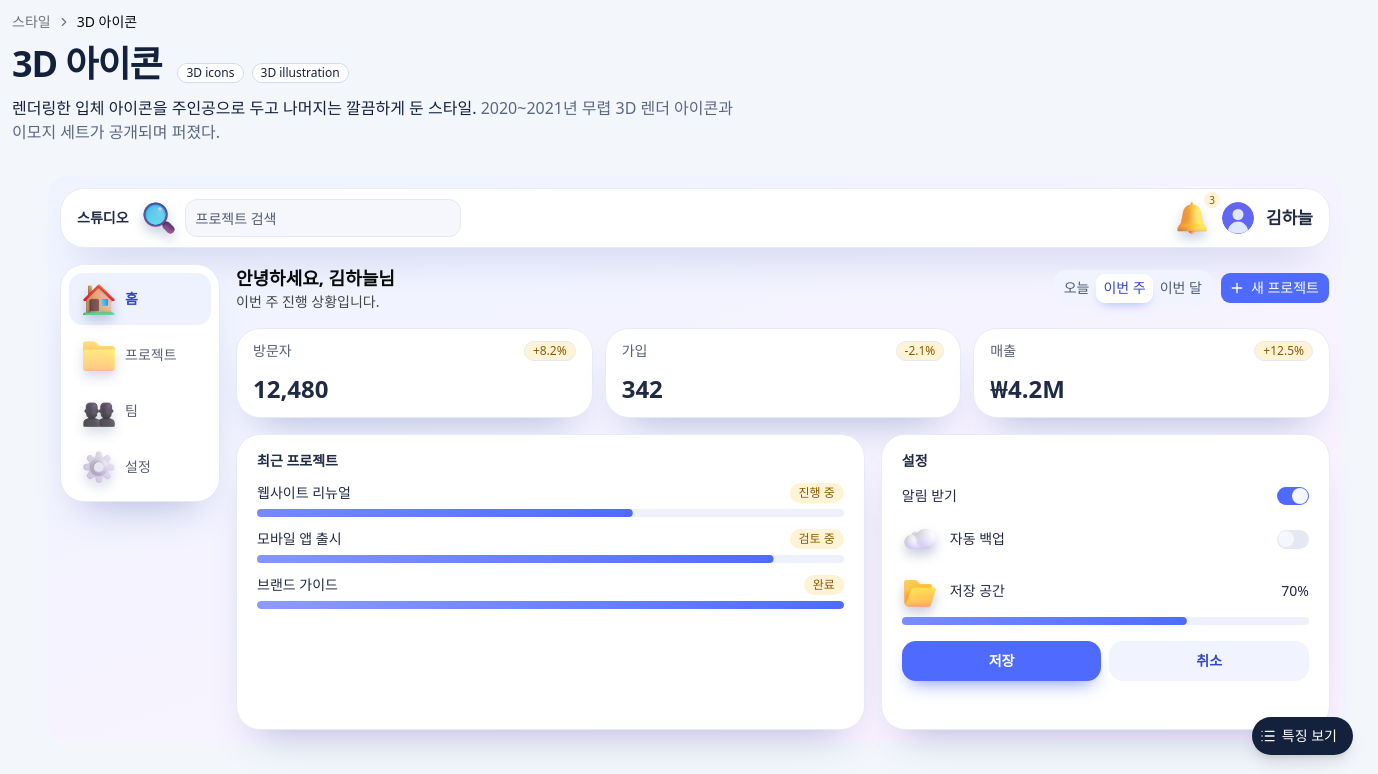
Scenario: brings the dashboard back home when traits are shown, so every trait has its part
Click the button "팀".
click(140, 411)  # box [69,385,211,437]
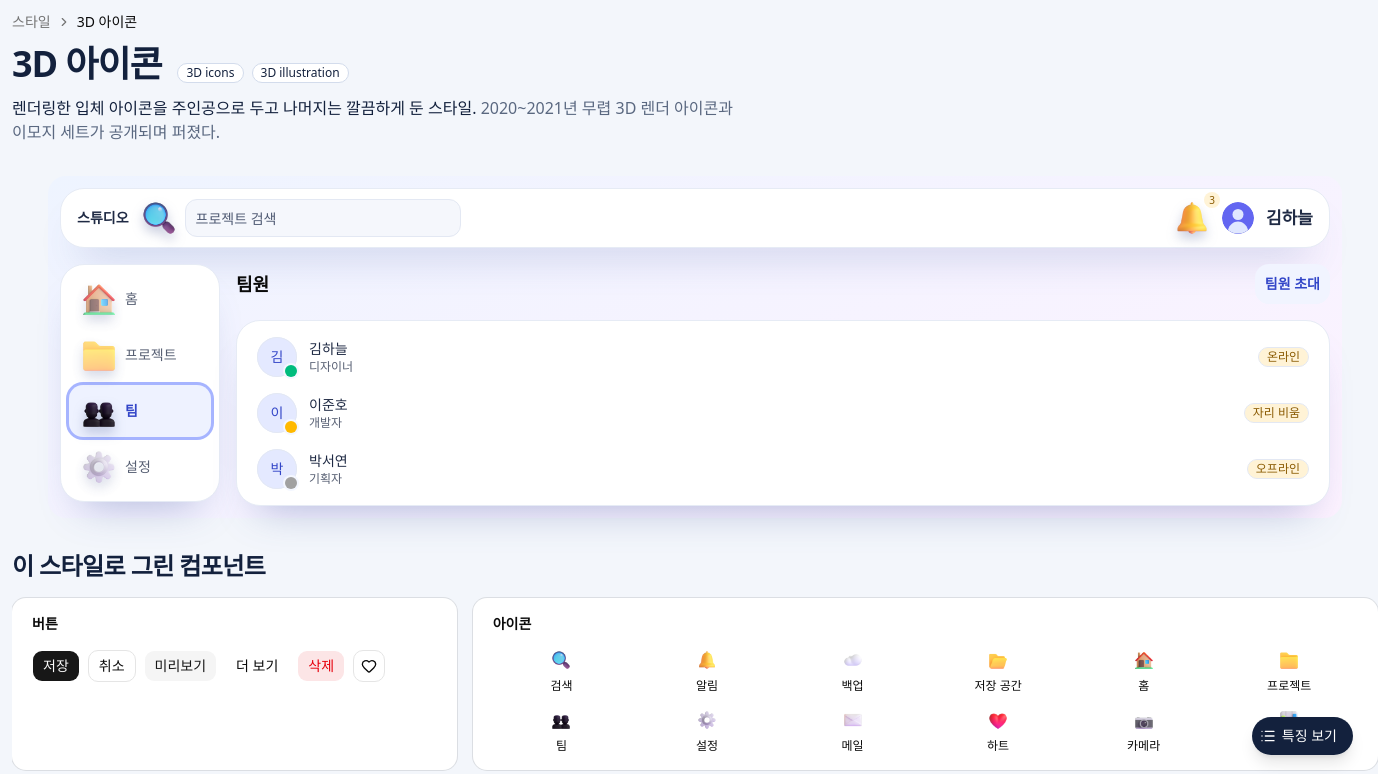
Click the button "특징 보기".
click(1302, 736)  # box [1251,716,1354,756]
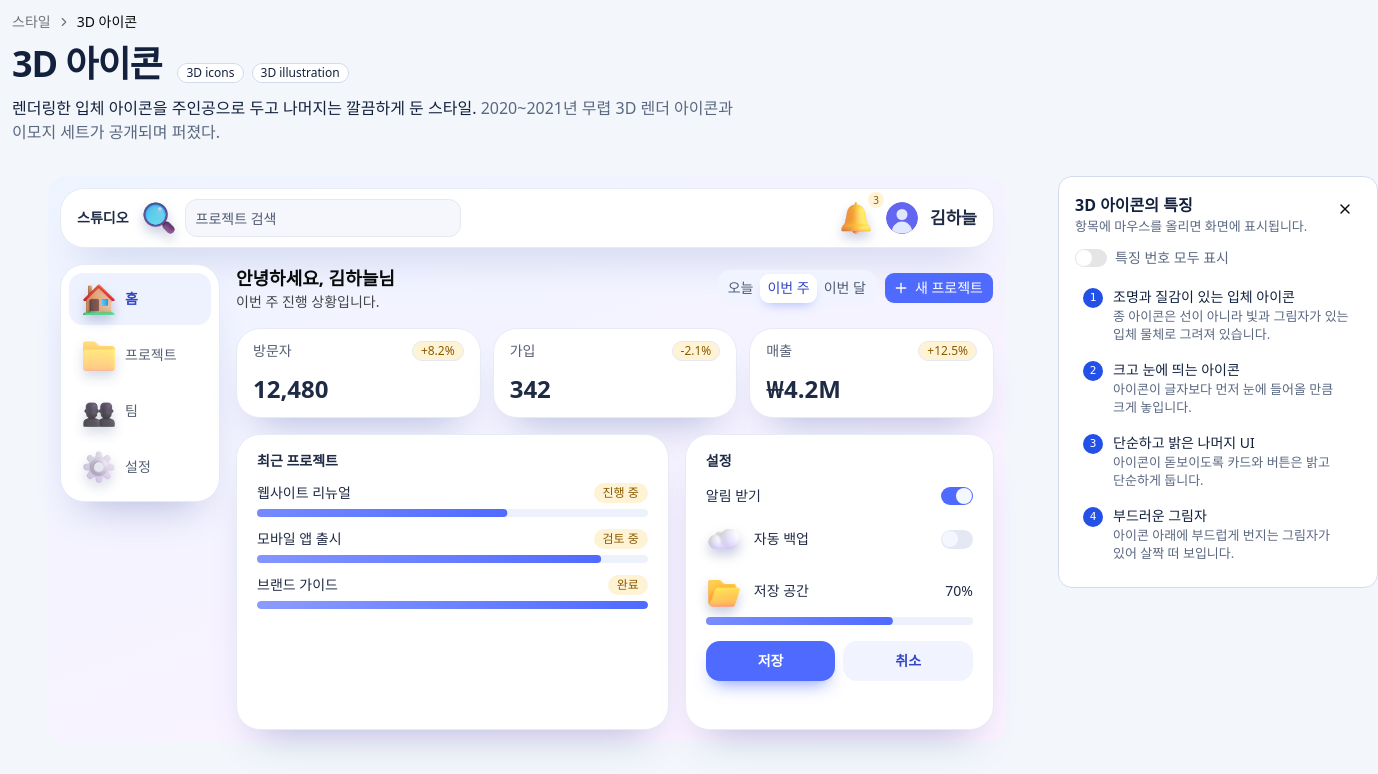
Click the switch named "특징 번호 모두 표시".
click(1091, 258)  # box [1075,248,1107,267]
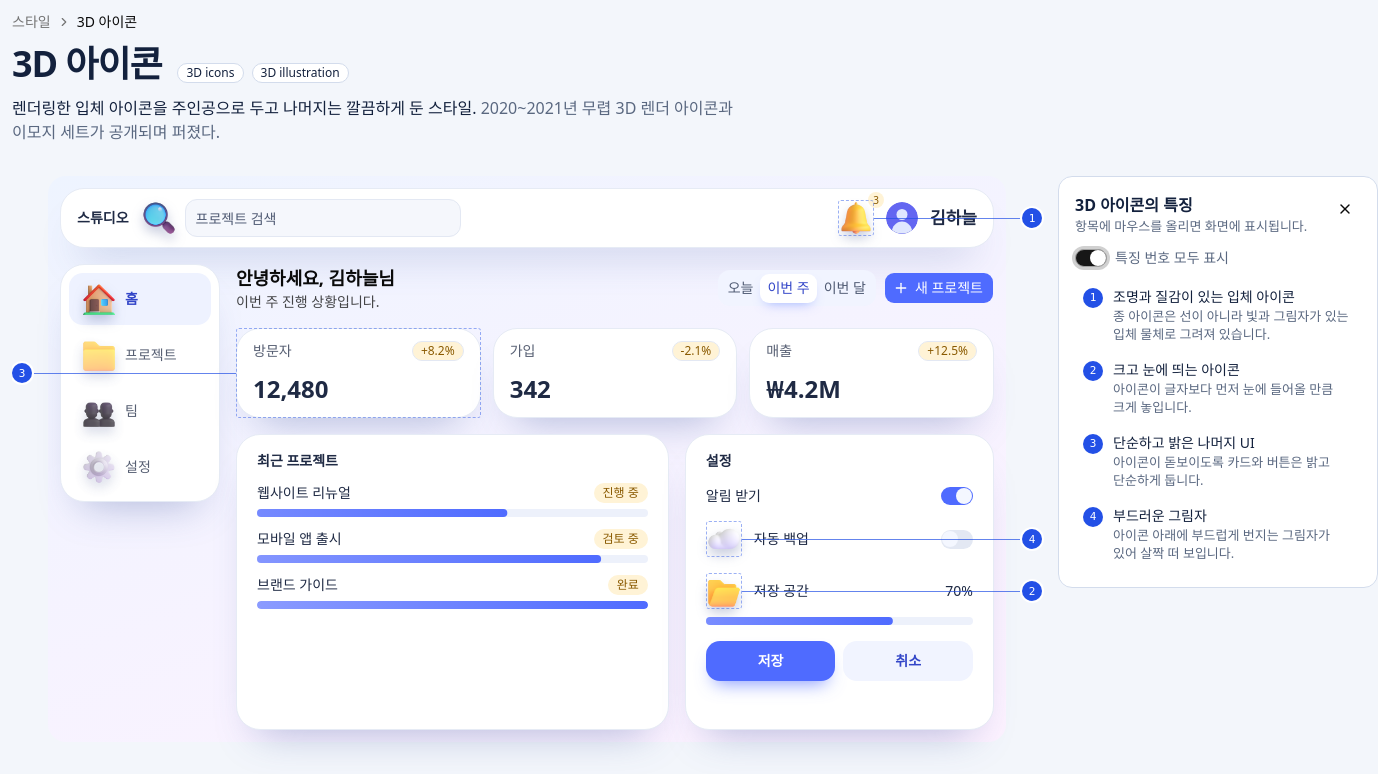
expect the heading "안녕하세요, 김하늘님" is shown: met, box [236,264,395,292]
expect the number of elements with test id "anatomy-marker" is 4: met, box [838,200,1042,236]; [706,573,1042,609]; [12,328,481,418]; [706,521,1042,557]
